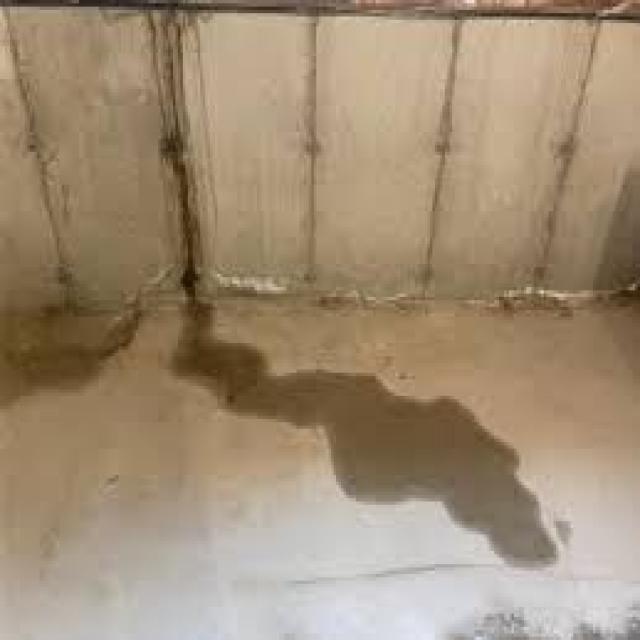water accumulation: (164, 294, 575, 567), (154, 8, 207, 292), (17, 290, 148, 400)
